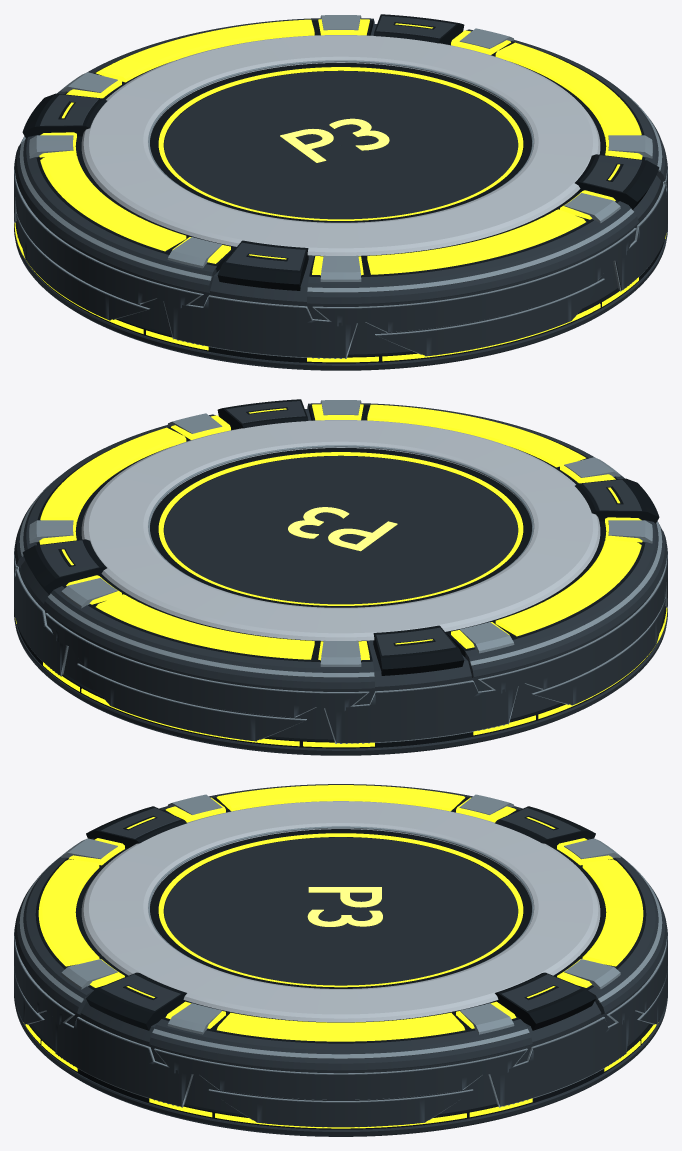
Rendered from Striker.fbx.
The picture shows the model from 3 angles, top to bottom: view 1: azimuth 30°, elevation 25°; view 2: azimuth 150°, elevation 25°; view 3: azimuth 270°, elevation 25°; orthographic projection.
Parts seen in each view (by area): view 1: SM_Puck_Striker_P3_HighDetail; view 2: SM_Puck_Striker_P3_HighDetail; view 3: SM_Puck_Striker_P3_HighDetail.
Part boxes in pixels (x1=…): SM_Puck_Striker_P3_HighDetail: x1=14, y1=14, x2=667, y2=370; SM_Puck_Striker_P3_HighDetail: x1=14, y1=399, x2=667, y2=755; SM_Puck_Striker_P3_HighDetail: x1=14, y1=784, x2=667, y2=1136.
Bounding box in the file's own units: 82.7 × 82.7 × 13.4.
